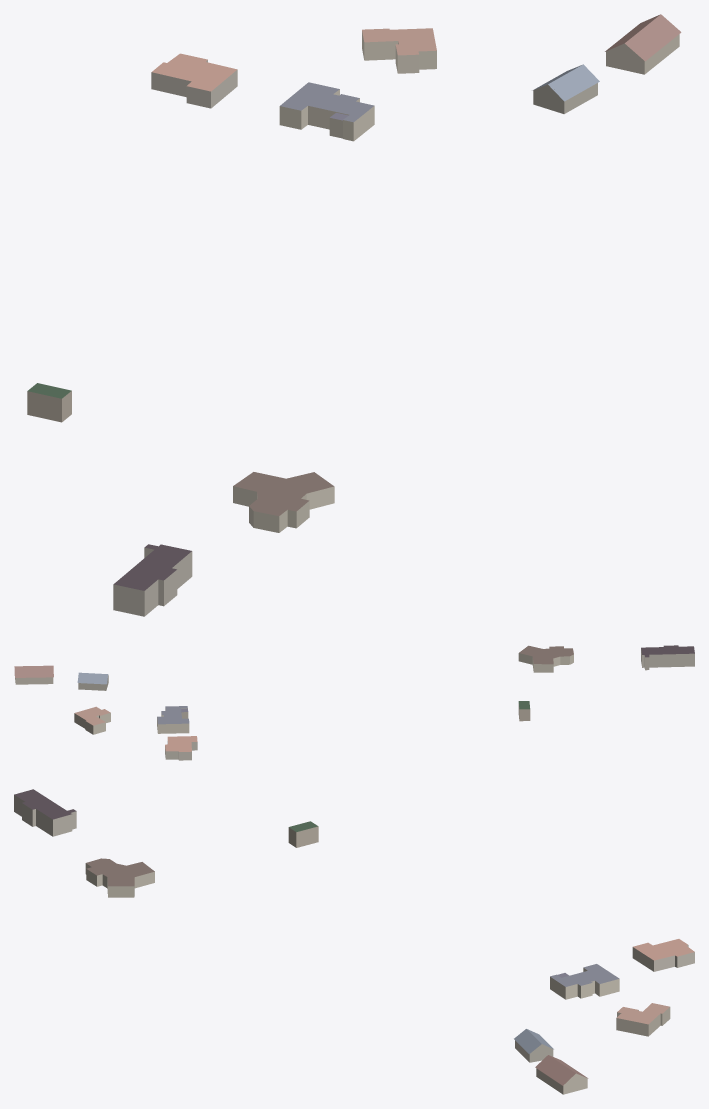
3 renders of one model, top to bottom at view 1: azimuth 30°, elevation 25°; view 2: azimuth 150°, elevation 25°; view 3: azimuth 270°, elevation 25°, orthographic. The views are drawn at different scales.
Visible parts, largest first — view 1: tuile; view 2: tuile; view 3: tuile.
Boxes of the visible parts, box(x1,y1,x2,y2) form: tuile: box(27, 14, 681, 616); tuile: box(14, 645, 694, 760); tuile: box(14, 789, 694, 1094).
Bounding box in the file's own units: 256 × 17.01 × 235.
